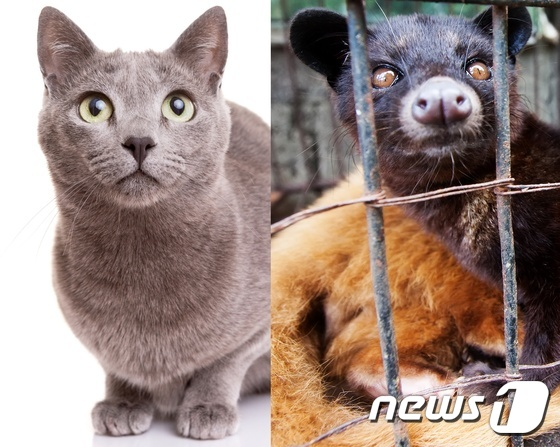cat: (21, 2, 273, 439)
cat-face: (29, 6, 237, 210)
